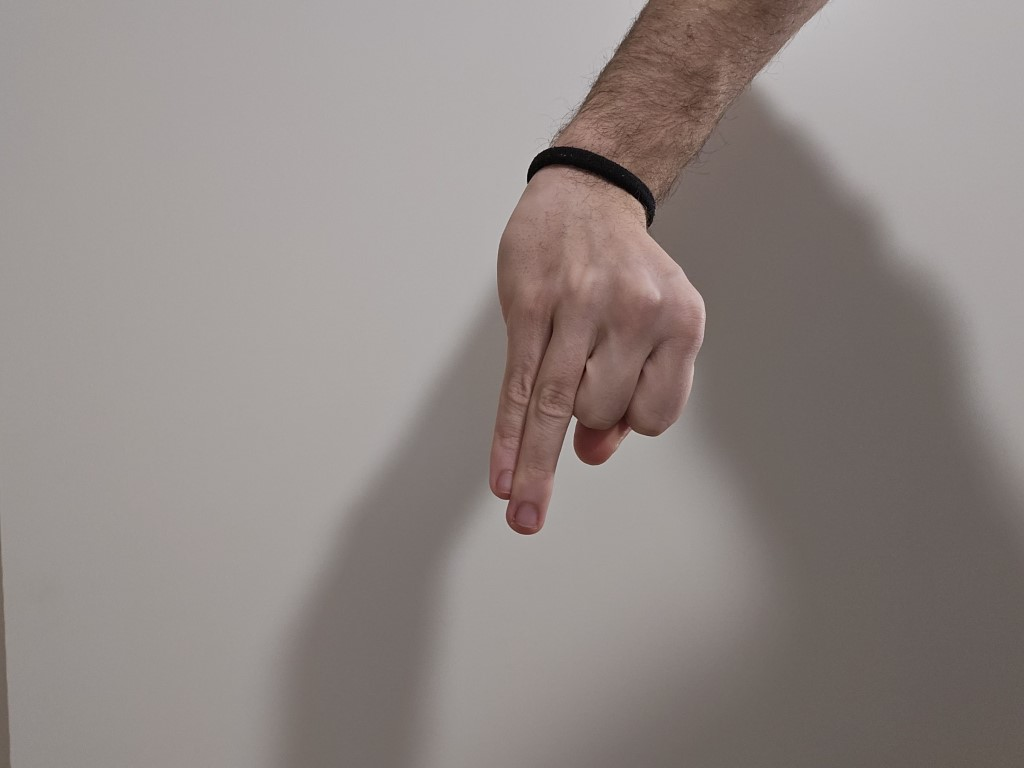n: (460, 185, 722, 566)
